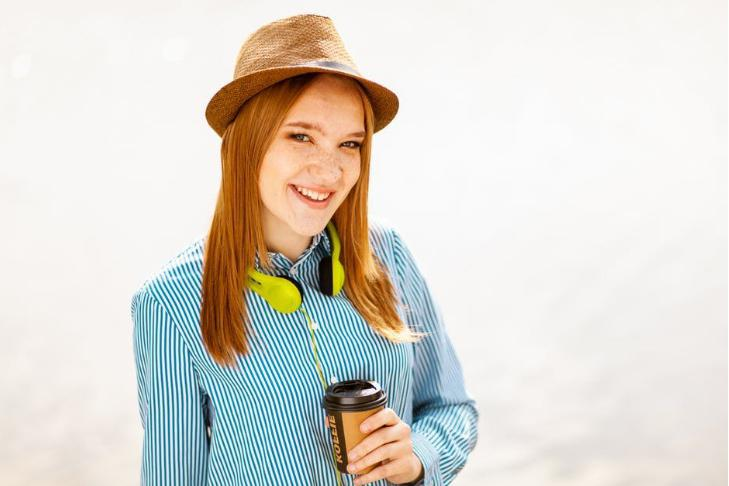face: (256, 78, 364, 235)
